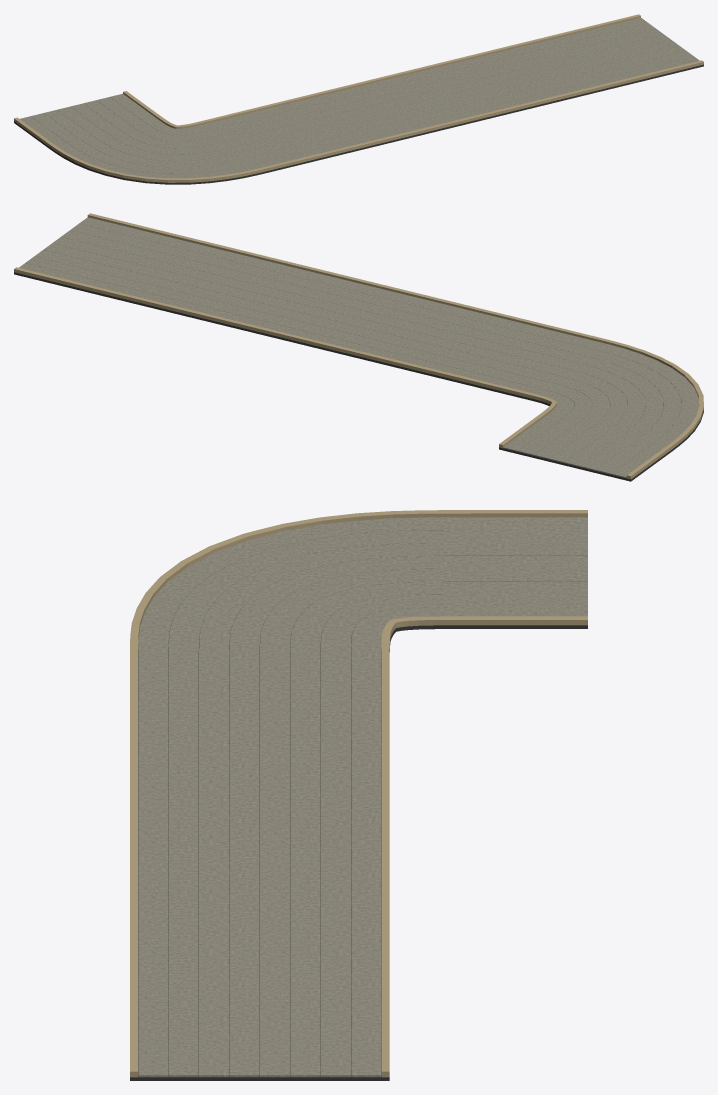
File: track_main_07.fbx
3 renders of one model, top to bottom at view 1: azimuth 30°, elevation 25°; view 2: azimuth 150°, elevation 25°; view 3: azimuth 270°, elevation 25°, orthographic. The views are drawn at different scales.
Visible parts, largest first — view 1: roman_concrete.001, travertine.001, basalt.001; view 2: roman_concrete.001, travertine.001, basalt.001; view 3: roman_concrete.001, travertine.001, basalt.001.
Part boxes in pixels (box(x1,y1,x2,y2)): roman_concrete.001: box(20, 17, 699, 178); travertine.001: box(14, 14, 703, 182); basalt.001: box(14, 64, 703, 184); roman_concrete.001: box(19, 217, 698, 478); travertine.001: box(14, 213, 703, 479); basalt.001: box(14, 272, 703, 481); roman_concrete.001: box(138, 517, 587, 1077); travertine.001: box(130, 510, 587, 1077); basalt.001: box(130, 625, 587, 1080).
Size of the model in its own units: 523877 by 180569 by 4000.
